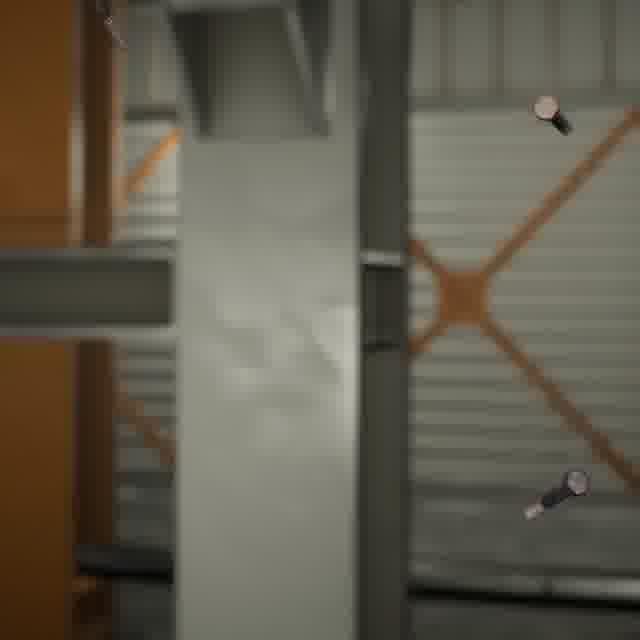bolt: (519, 463, 594, 523), (79, 0, 132, 57), (528, 90, 576, 139)
